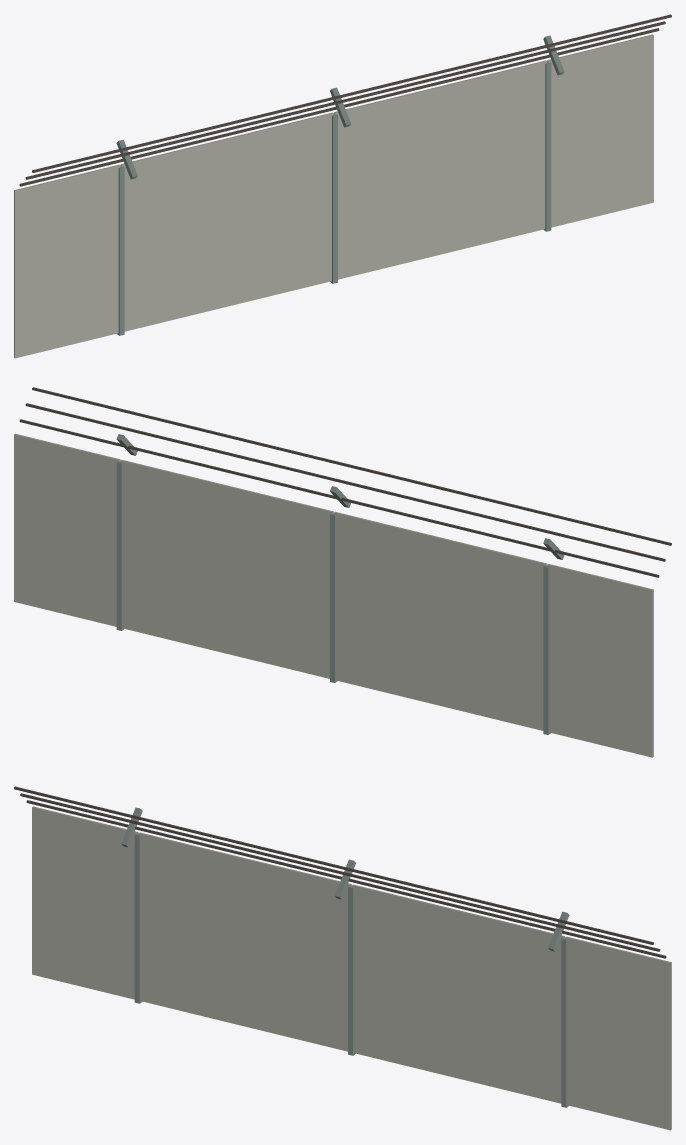
Rendered from SM_VallaBetera_Malla_e0_Sana_LOD0.fbx.
3 views of the same model, one above another, from view 1: azimuth 30°, elevation 25°; view 2: azimuth 150°, elevation 25°; view 3: azimuth 330°, elevation 25° (orthographic).
Parts seen in each view (by area): view 1: SM_valla_estados_v0_LOD0; view 2: SM_valla_estados_v0_LOD0; view 3: SM_valla_estados_v0_LOD0.
Part boxes in pixels (x1,y1,x2,y2): SM_valla_estados_v0_LOD0: (14,14,671,358); SM_valla_estados_v0_LOD0: (14,387,671,757); SM_valla_estados_v0_LOD0: (14,786,671,1130).
Bounding box in the file's own units: 9.98 × 3.03 × 0.5477.
